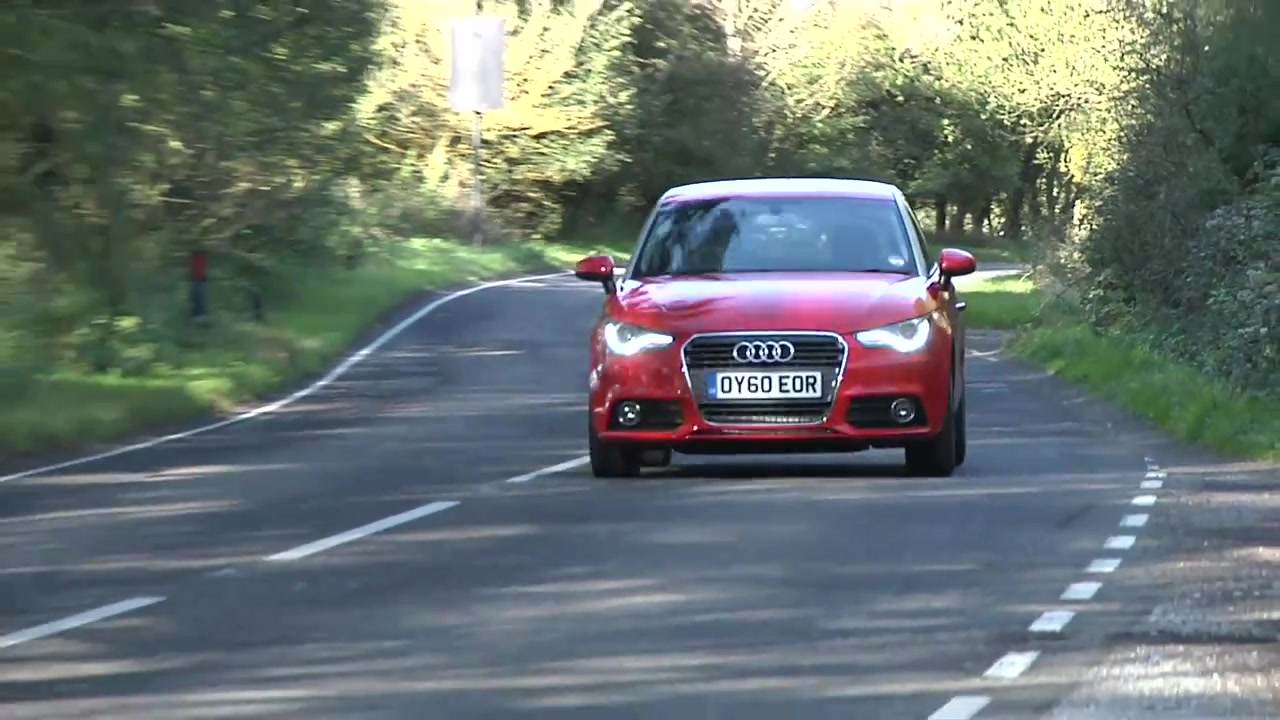car: (573, 168, 977, 484)
